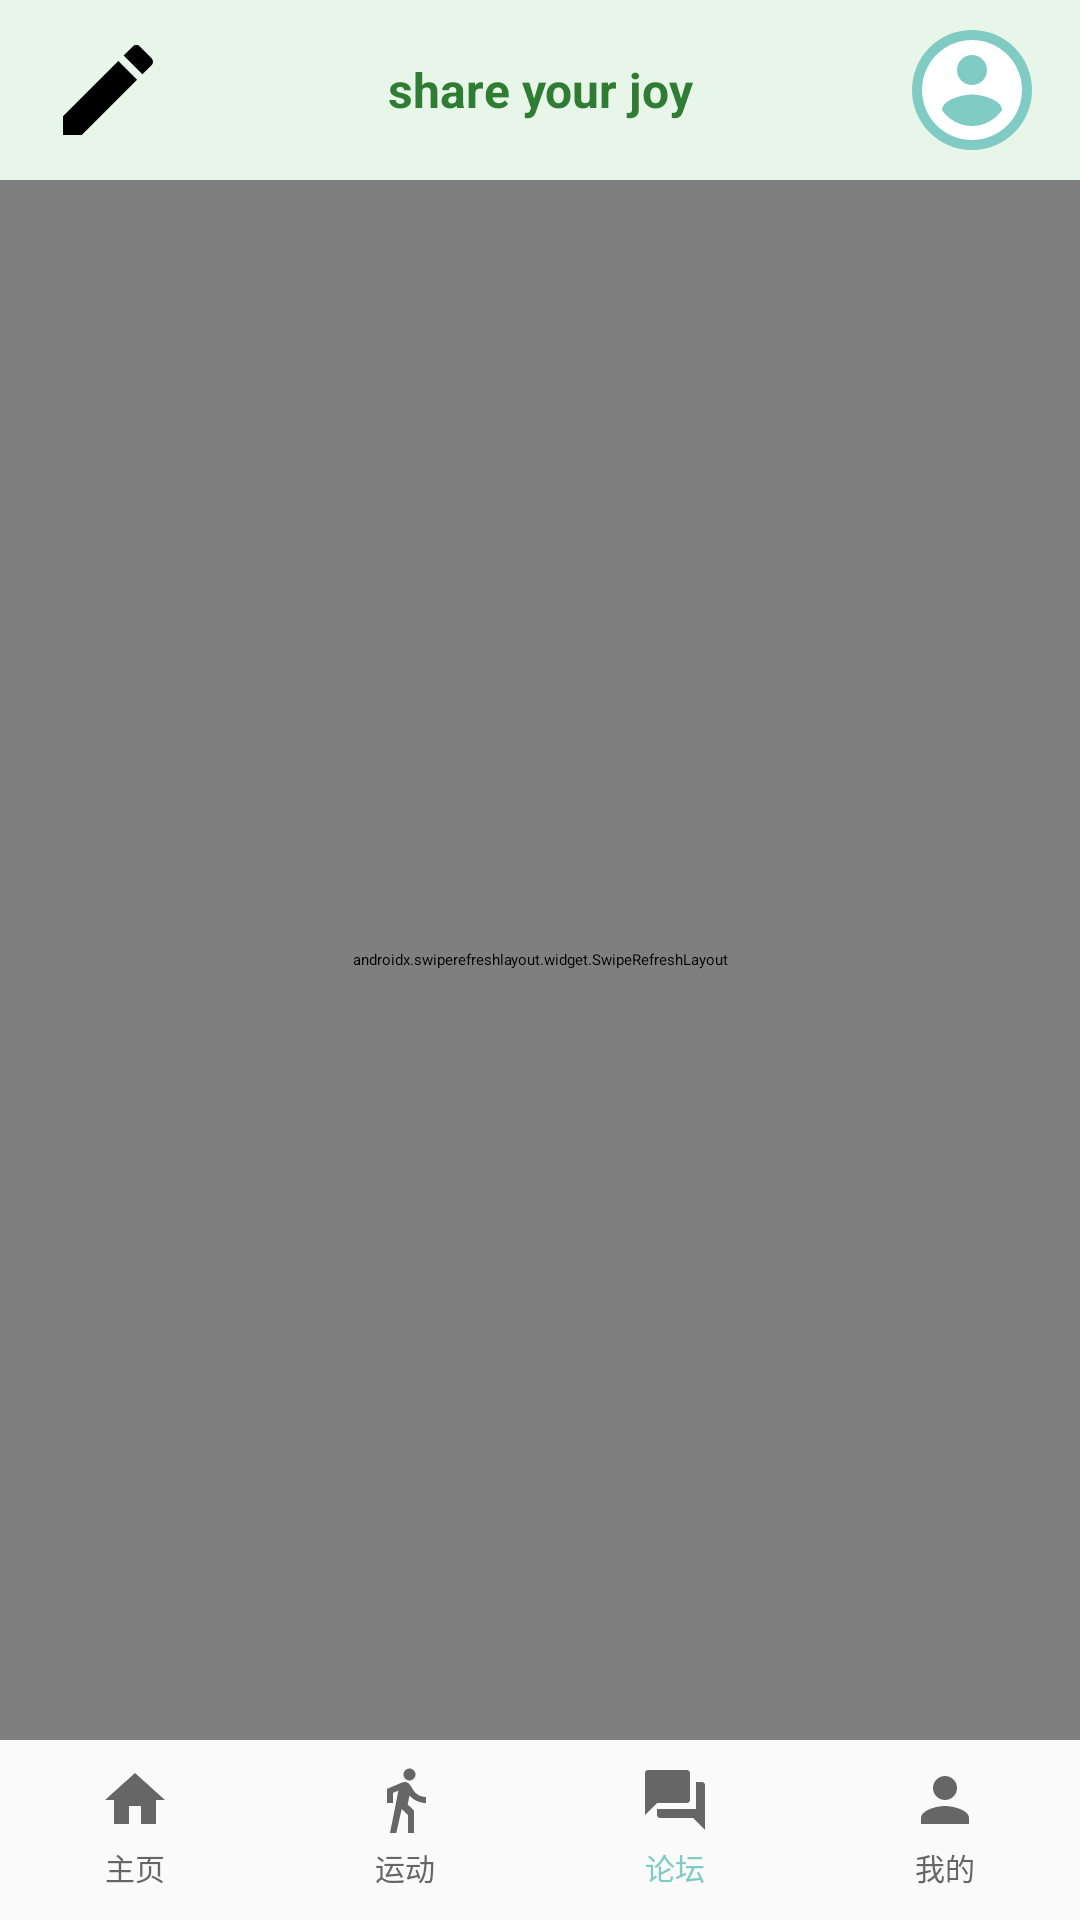

Icons on this 1080 x 1920 Android screen, each with the point to tap as (x,y):
edit: (108,90)
